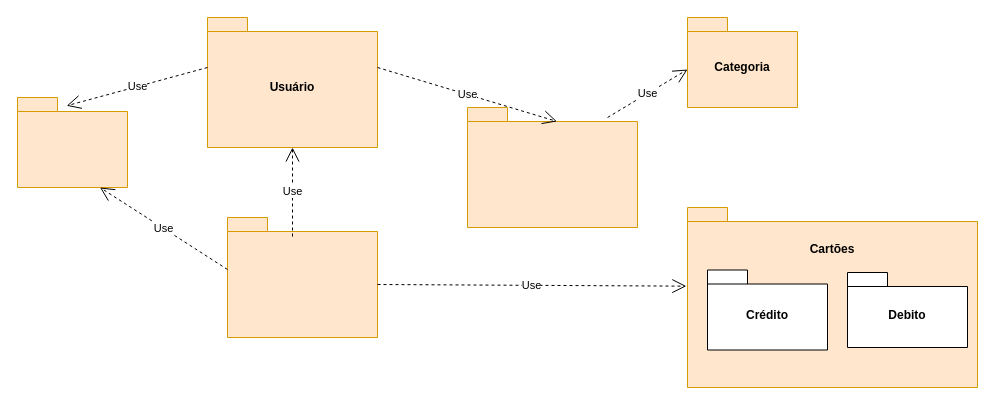
Image size: 995x405. Some labels were removed from this diagram. The shapes that lost their labels are listed below. From the top down, each one's centre as x and y in pixels, then its label:
the point at 72,142: Receitas
the point at 552,167: Despesas
the point at 302,277: Controle financeiro
